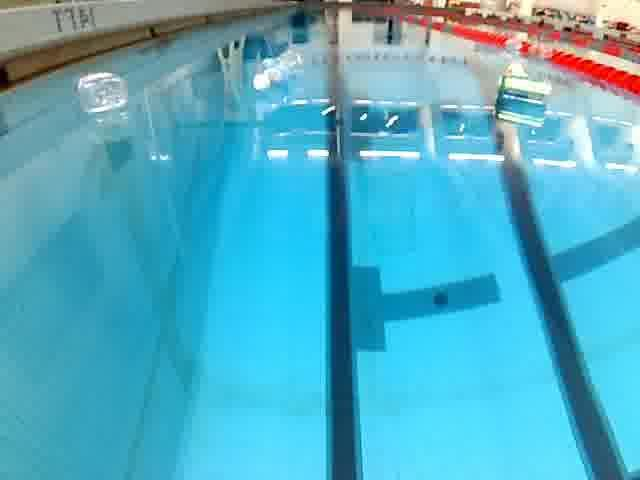Bottle: (248, 45, 312, 97), (68, 68, 134, 116)
Can: (495, 68, 555, 112)
